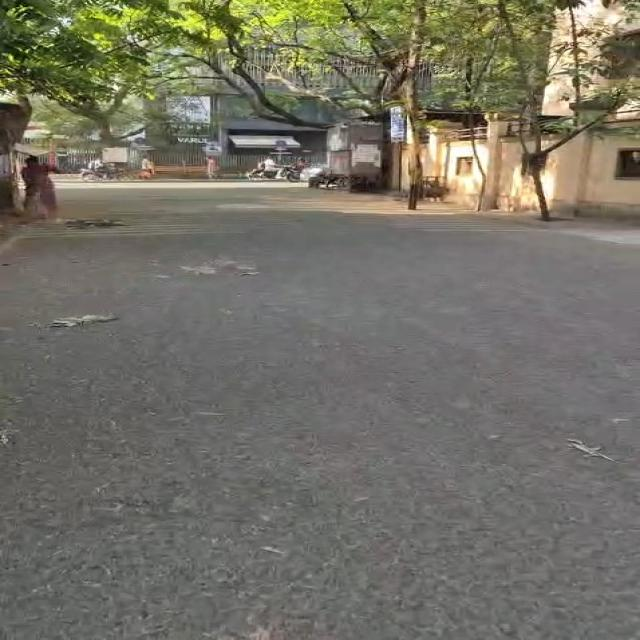person: (22, 156, 58, 219), (141, 156, 155, 177), (249, 159, 265, 176), (207, 156, 218, 179), (263, 157, 277, 172)
tree_trunk: (401, 0, 425, 210), (0, 97, 32, 215), (469, 123, 487, 212), (528, 155, 551, 221), (408, 113, 423, 210), (97, 119, 119, 146)
